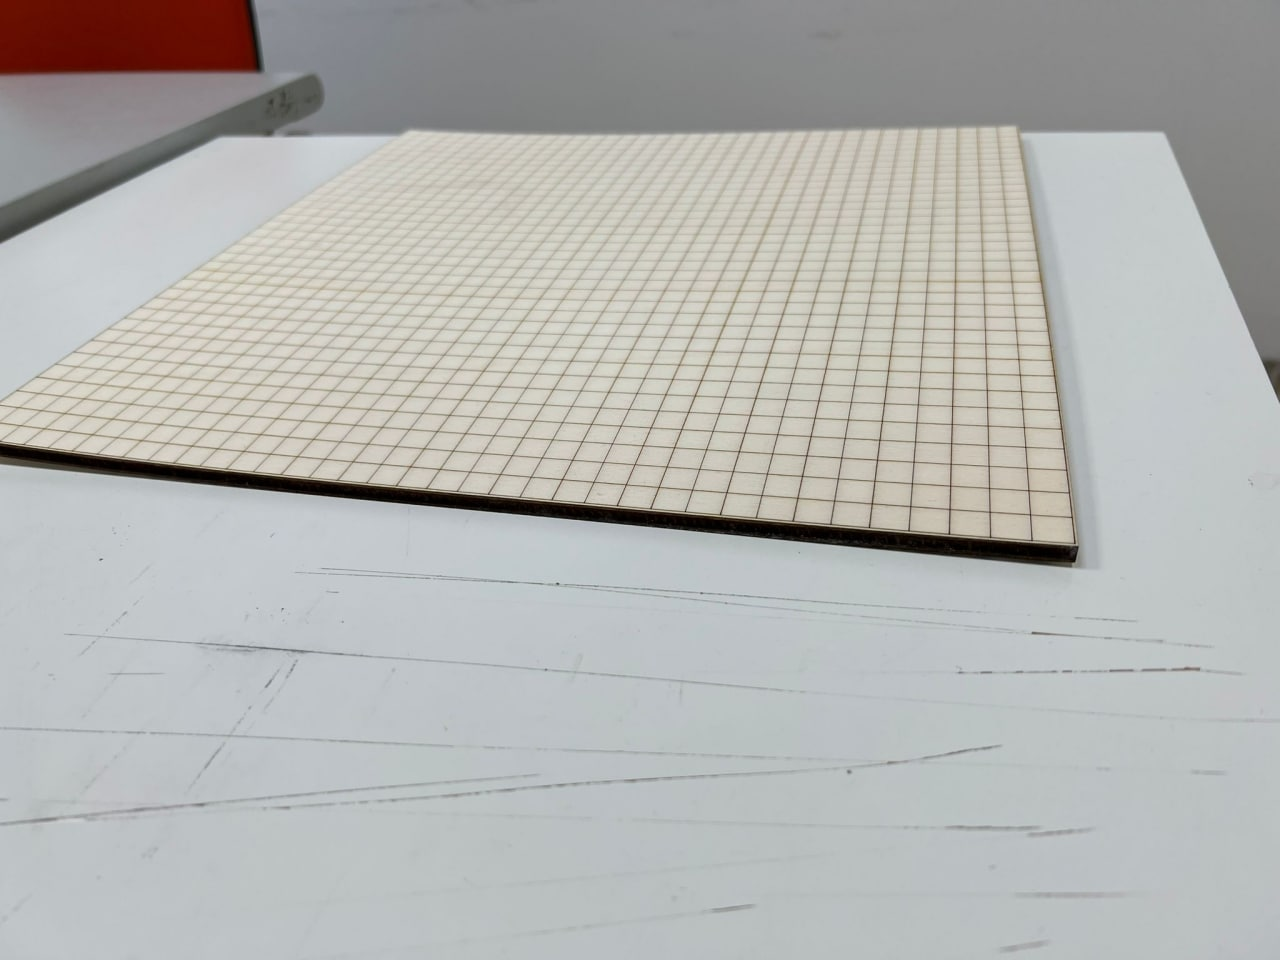grid: (1, 114, 1099, 579)
